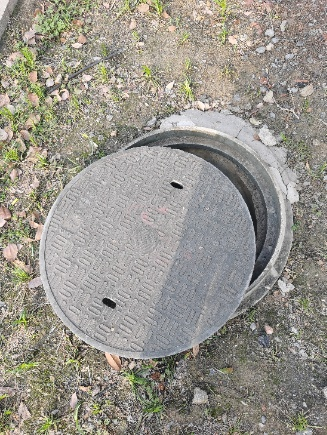uncovered: (40, 125, 289, 358)
